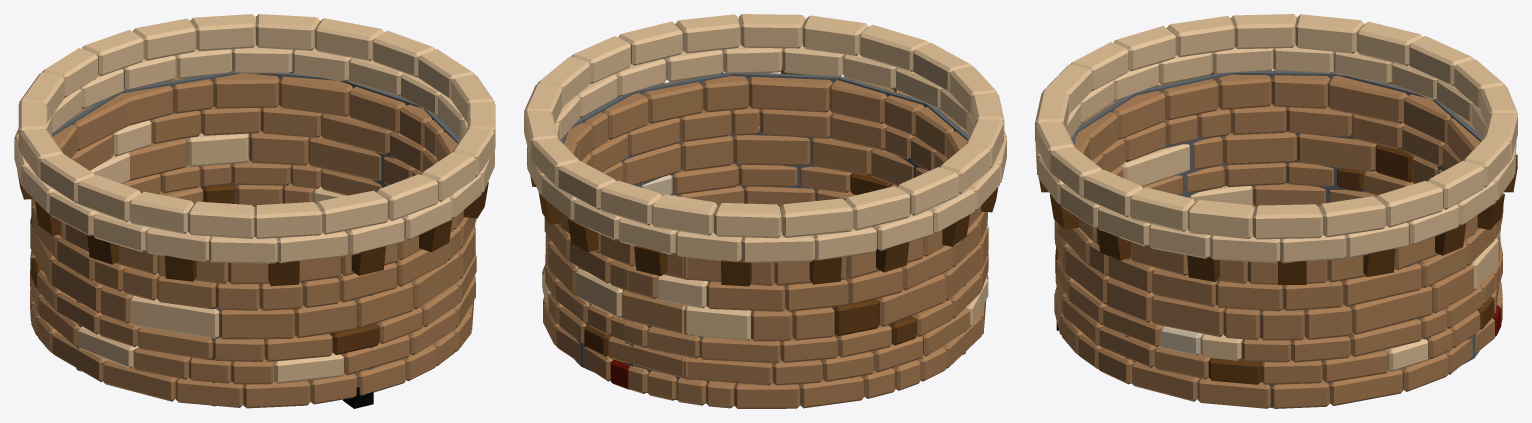
The model's file is top-section-no-crenellation-rb.glb.
The picture shows the model from 3 angles, left to right: view 1: azimuth 30°, elevation 25°; view 2: azimuth 150°, elevation 25°; view 3: azimuth 270°, elevation 25°; orthographic projection.
Parts seen in each view (by area): view 1: main-wall.004, top-section-2, top-section-1, grout-wall.002, strut-1, strut-11, strut-8, strut-12, strut-15, strut-4; view 2: main-wall.004, top-section-2, top-section-1, grout-wall.002, strut-2, strut-6, strut-16, strut-10, strut-9, strut-4; view 3: main-wall.004, top-section-2, top-section-1, grout-wall.002, strut-14, strut-5, strut-13, strut-3, strut-7, strut-9, strut-12.
Part boxes in pixels (<box>): main-wall.004: <box>30,73,476,408</box>; top-section-2: <box>18,14,495,238</box>; top-section-1: <box>14,40,494,263</box>; grout-wall.002: <box>51,71,460,406</box>; strut-1: <box>351,246,385,275</box>; strut-11: <box>268,261,299,286</box>; strut-8: <box>164,255,196,281</box>; strut-12: <box>419,218,452,252</box>; strut-15: <box>87,234,118,264</box>; strut-4: <box>34,201,60,235</box>; main-wall.004: <box>542,73,988,408</box>; top-section-2: <box>524,14,1004,238</box>; top-section-1: <box>527,43,1006,262</box>; grout-wall.002: <box>560,72,969,403</box>; strut-2: <box>634,245,667,275</box>; strut-6: <box>809,257,841,284</box>; strut-16: <box>720,257,751,286</box>; strut-10: <box>876,242,909,272</box>; strut-9: <box>567,218,598,252</box>; strut-4: <box>942,215,969,246</box>; main-wall.004: <box>1054,69,1503,408</box>; top-section-2: <box>1035,14,1517,239</box>; top-section-1: <box>1035,43,1516,263</box>; grout-wall.002: <box>1071,71,1481,408</box>; strut-14: <box>1363,248,1395,276</box>; strut-5: <box>1097,228,1130,260</box>; strut-13: <box>1187,255,1219,281</box>; strut-3: <box>1278,258,1306,284</box>; strut-7: <box>1435,223,1465,255</box>; strut-9: <box>1477,193,1504,229</box>; strut-12: <box>1049,194,1079,229</box>.
Bounding box in the file's own units: 3.13 × 1.52 × 3.12.
